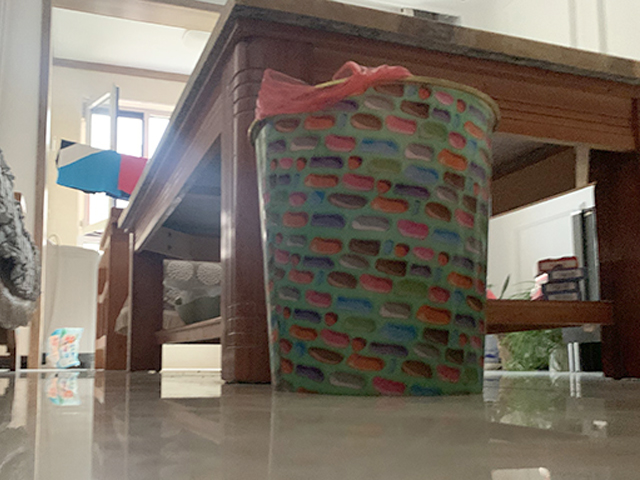table: (117, 1, 640, 386)
trashcan: (239, 68, 494, 396)
